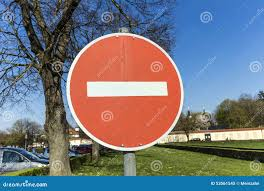No entry: (66, 34, 185, 152)
